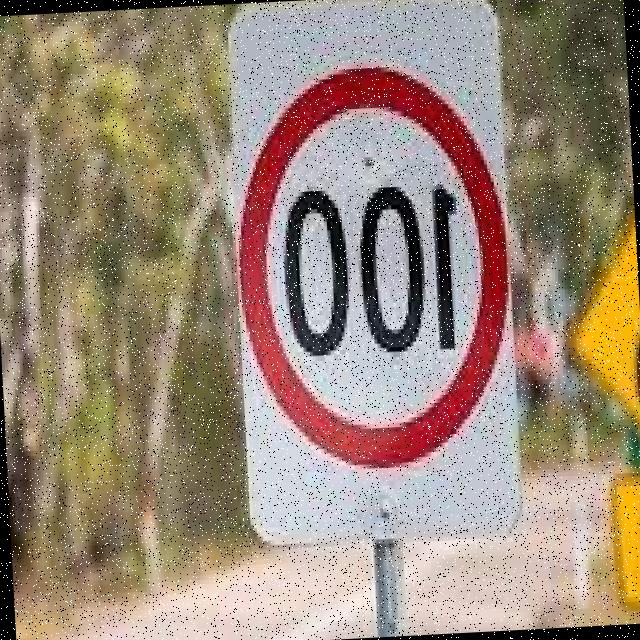speed_limit_100: (221, 51, 518, 484)
